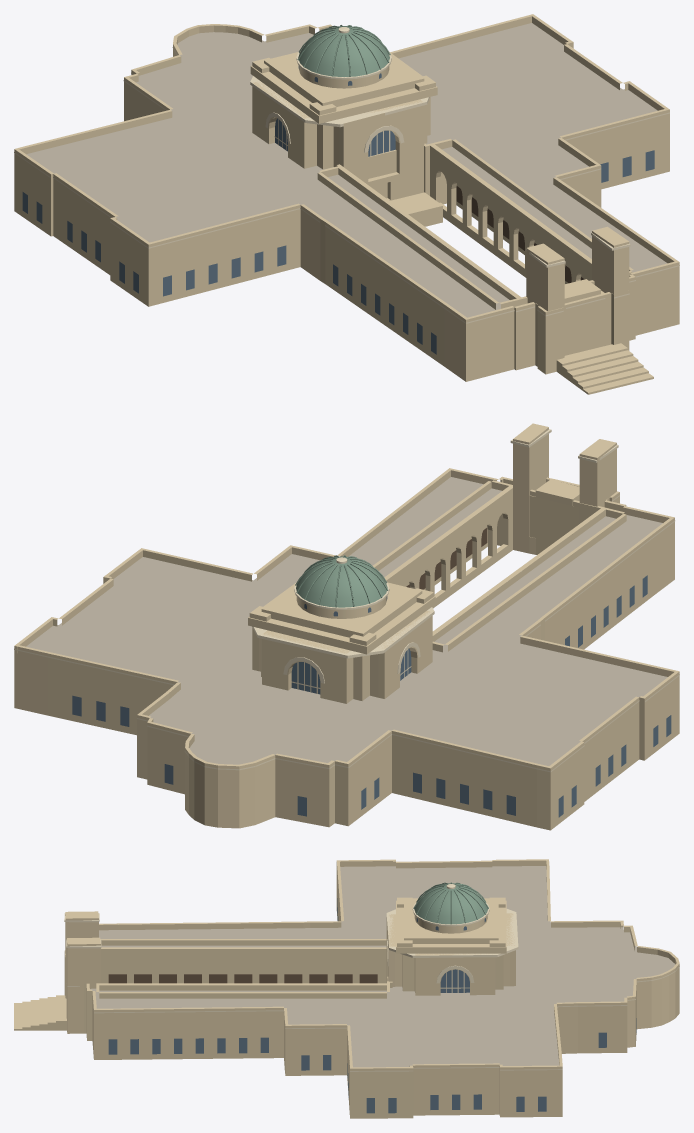
The model's file is canberra-australian-war-memorial.glb.
The picture shows the model from 3 angles, top to bottom: view 1: azimuth 30°, elevation 25°; view 2: azimuth 150°, elevation 25°; view 3: azimuth 270°, elevation 25°; orthographic projection. The views are drawn at different scales.
Visible parts, largest first — view 1: Australian War Memorial; view 2: Australian War Memorial; view 3: Australian War Memorial.
Part boxes in pixels (x1,y1,x2,y2): Australian War Memorial: [14, 14, 679, 394]; Australian War Memorial: [14, 423, 679, 830]; Australian War Memorial: [14, 859, 679, 1118].
Size of the model in its own units: 100 by 29 by 135.
